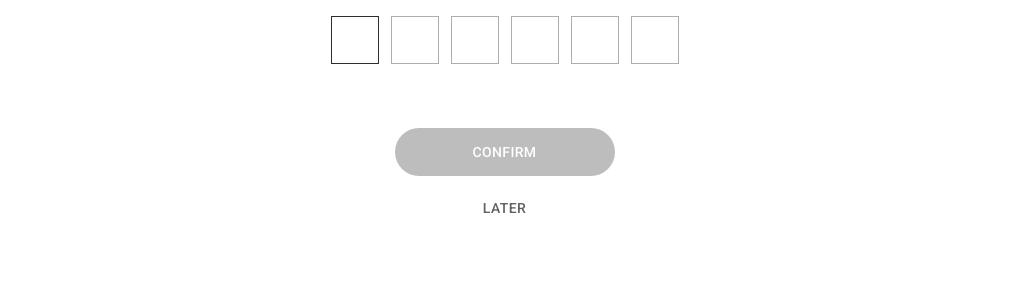
Test case: EmailVerificationForm Component › should display server error message on verification failure
Type "1" into the field named "Digit 1". click: (354, 40)
box: top-left (330, 16), bottom-right (378, 64)
Type "2" into the field named "Digit 2". click: (414, 40)
box: top-left (390, 16), bottom-right (438, 64)
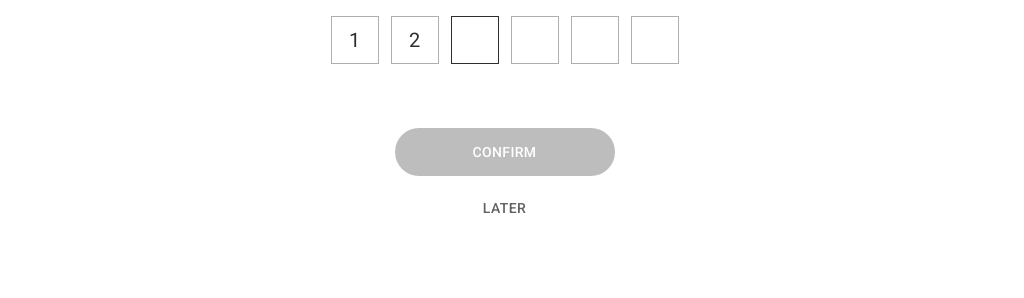
Type "3" into the field named "Digit 3". click: (474, 40)
box: top-left (450, 16), bottom-right (498, 64)
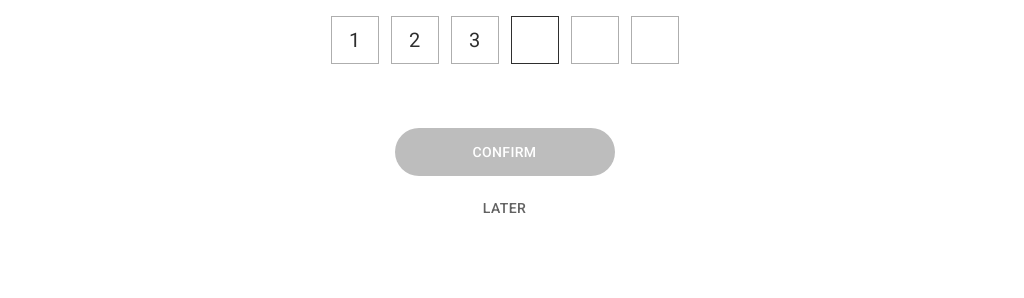
Type "4" into the field named "Digit 4". click: (534, 40)
box: top-left (510, 16), bottom-right (558, 64)
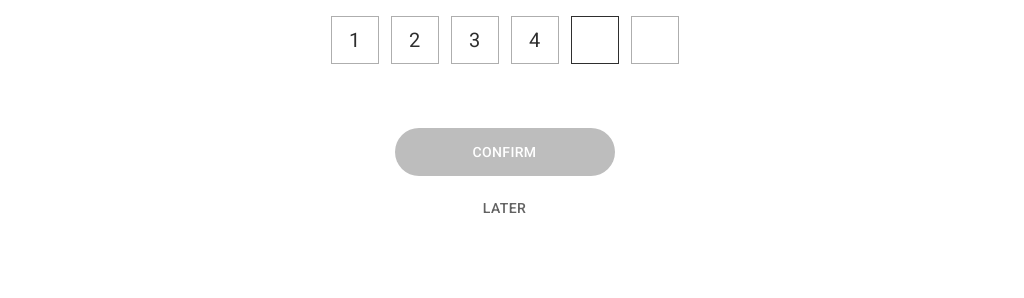
Type "5" into the field named "Digit 5". click: (594, 40)
box: top-left (570, 16), bottom-right (618, 64)
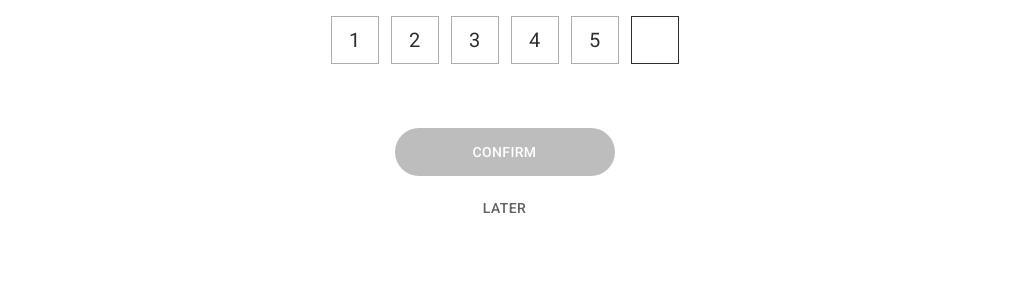
Type "6" into the field named "Digit 6". click: (654, 40)
box: top-left (630, 16), bottom-right (678, 64)
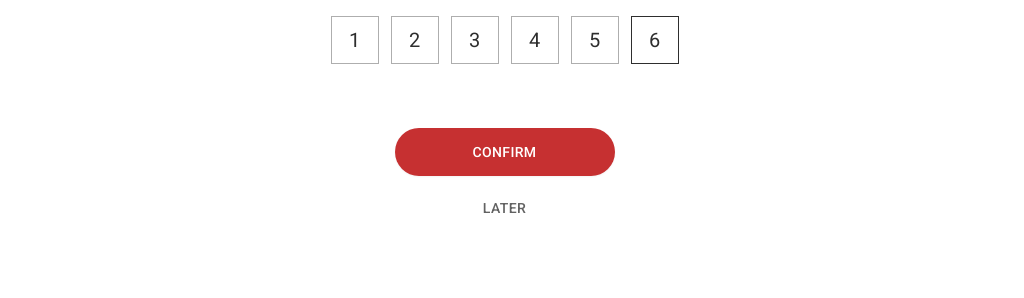
Click the button "CONFIRM". click: (504, 152)
box: top-left (394, 128), bottom-right (614, 176)
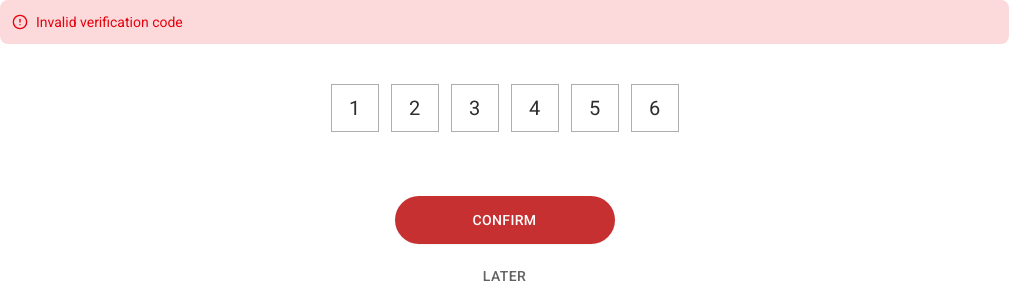
Expected: the text "Invalid verification code" is shown, top-left (36, 12), bottom-right (183, 32)
